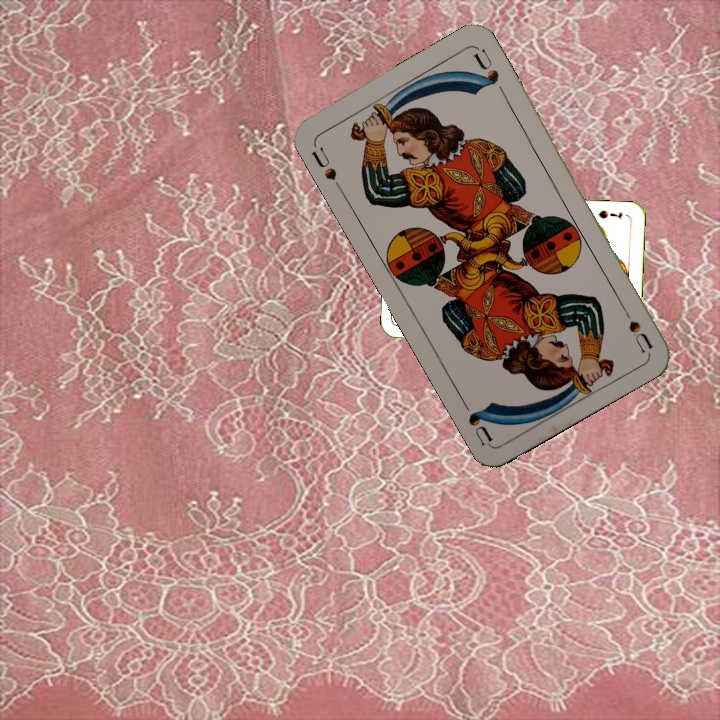S7: (594, 206, 625, 221)
SU: (616, 298, 655, 355), (307, 143, 340, 183)
